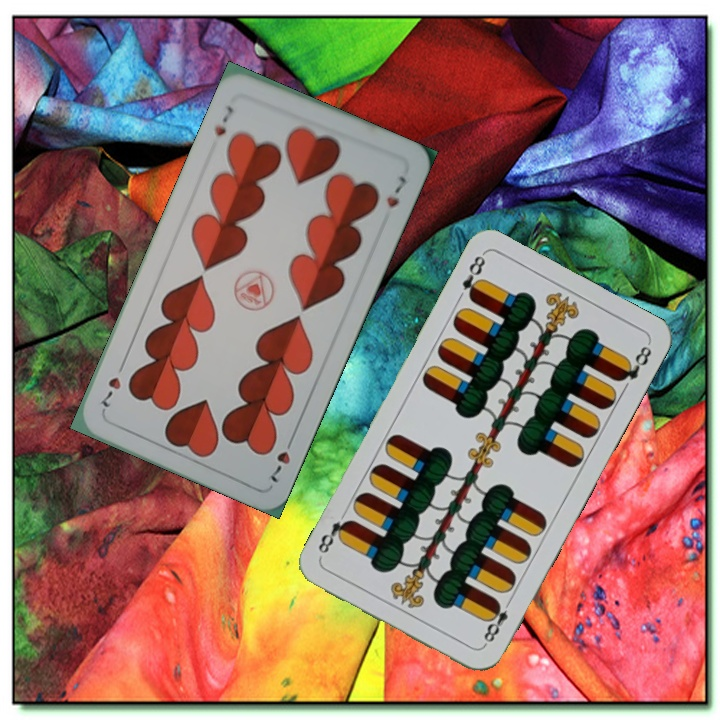E8: (479, 595, 515, 649), (458, 251, 488, 303)
H7: (265, 431, 297, 486), (210, 102, 236, 140)
